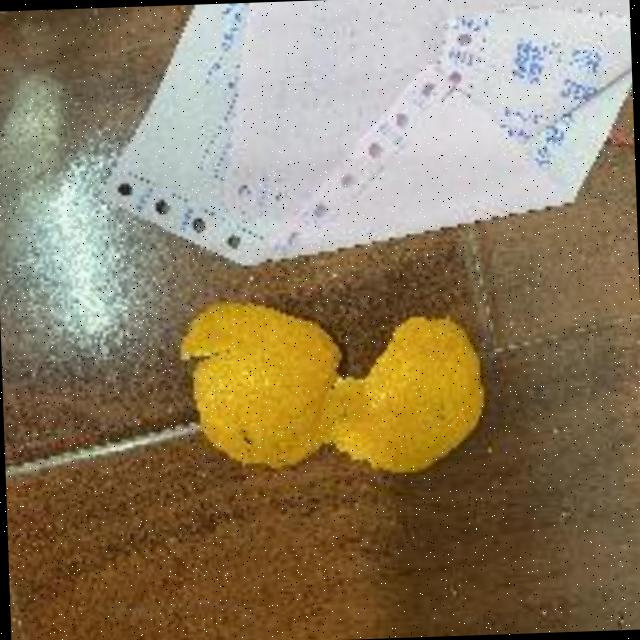orange-peel: (172, 284, 490, 484)
